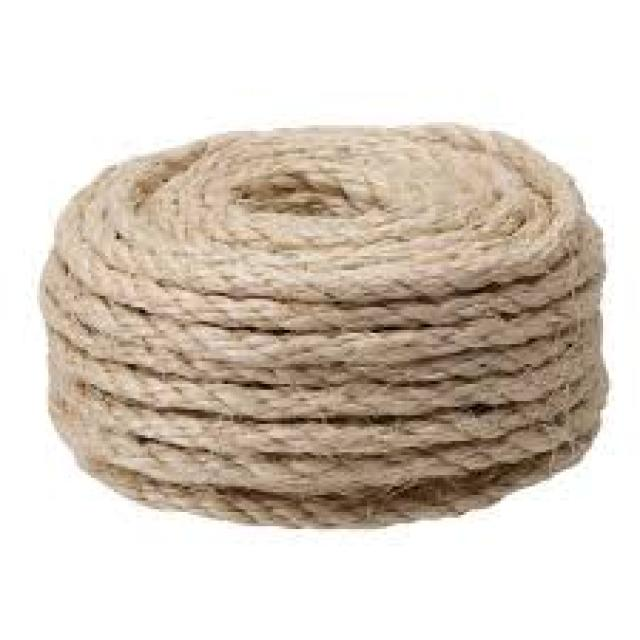Rope: (0, 116, 640, 546)
